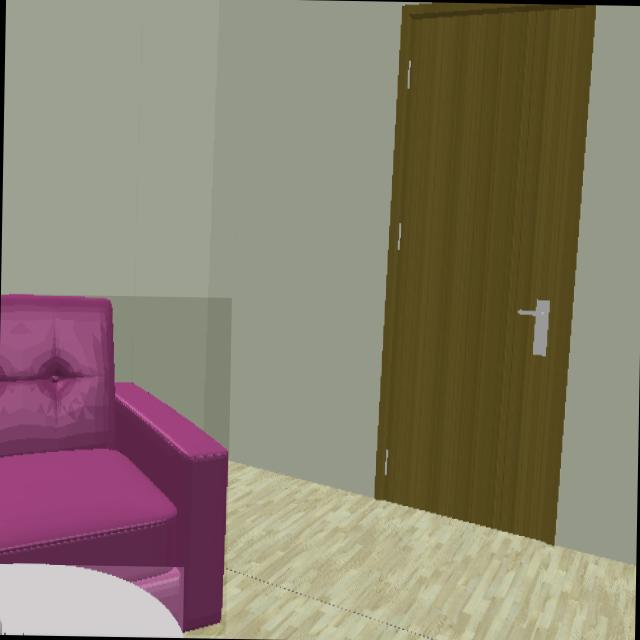sofa: (0, 293, 229, 635)
table: (0, 564, 181, 637)
